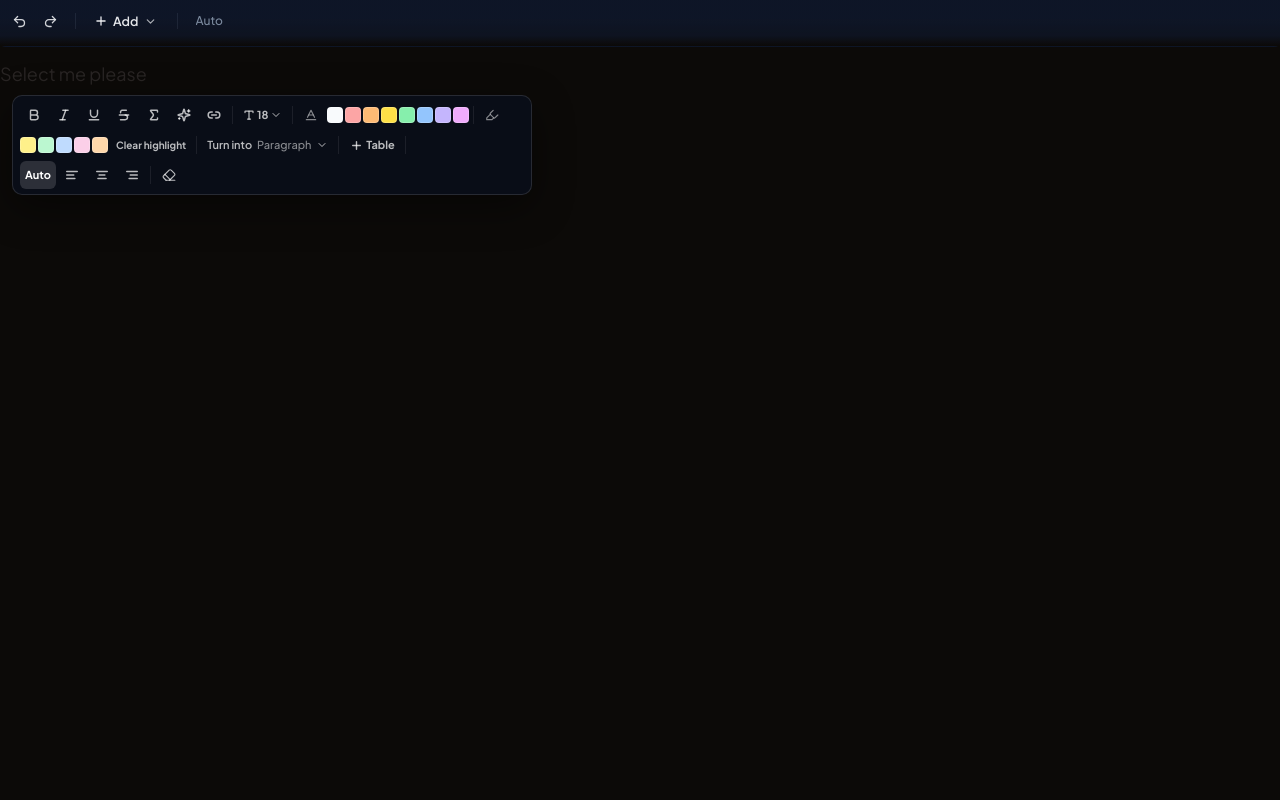
Test: M6.4C insert UI › size picker opens and shows 10×10 grid + label
Press the mouse on the button "Table" at (372, 145), box [344,131,402,159]
Click the button "Table" at (372, 145), box [344,131,402,159]
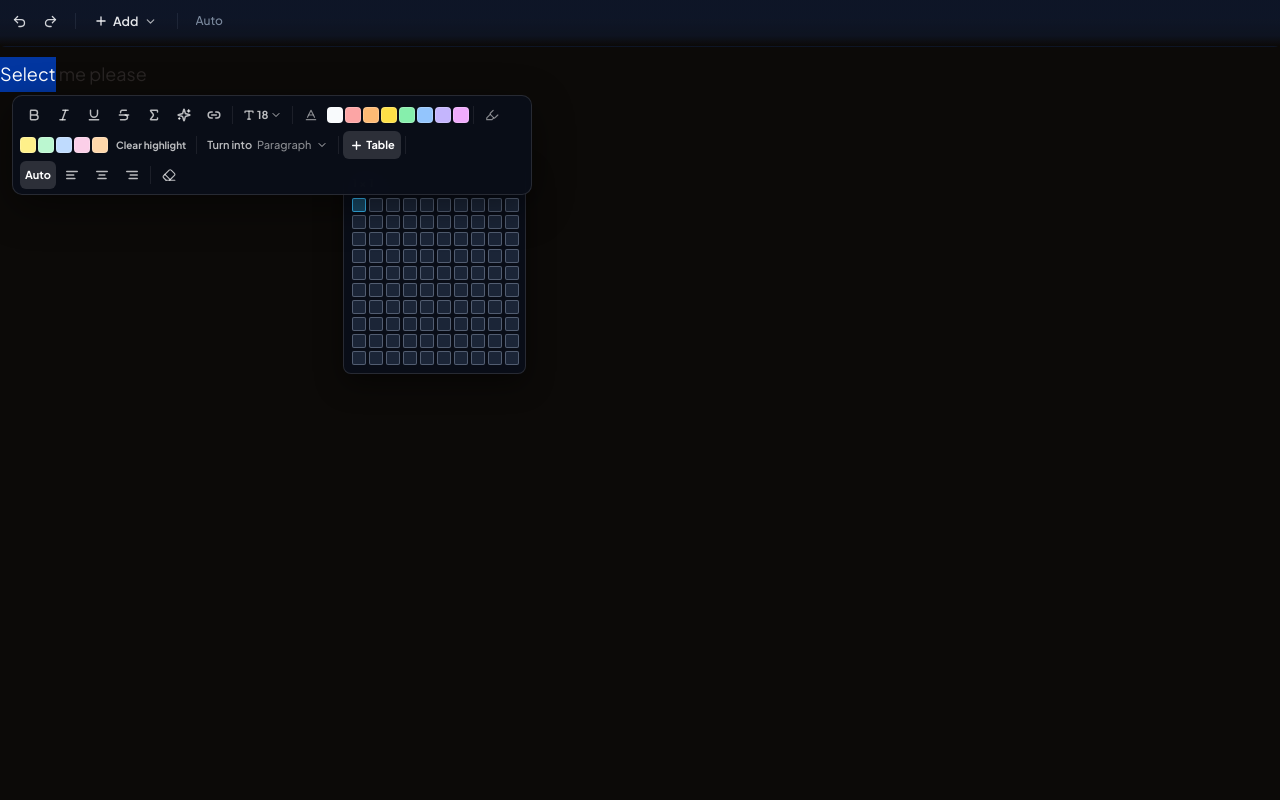
Result: the dialog is shown at [344,165,526,374]
